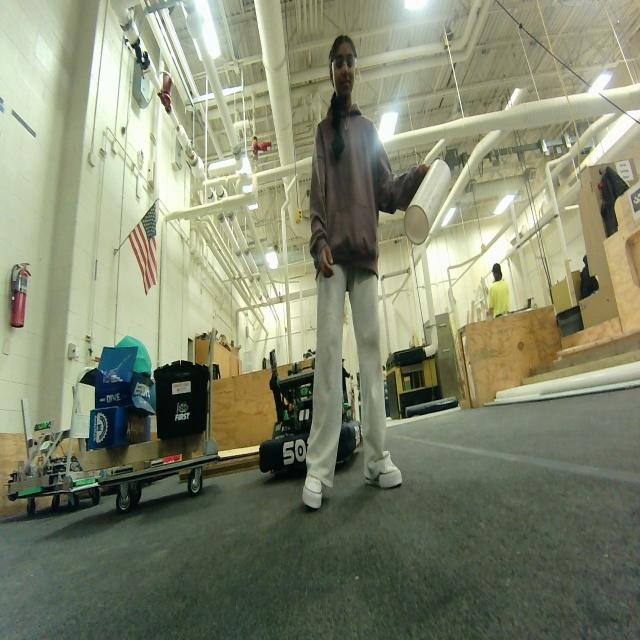coral: (402, 158, 452, 244)
